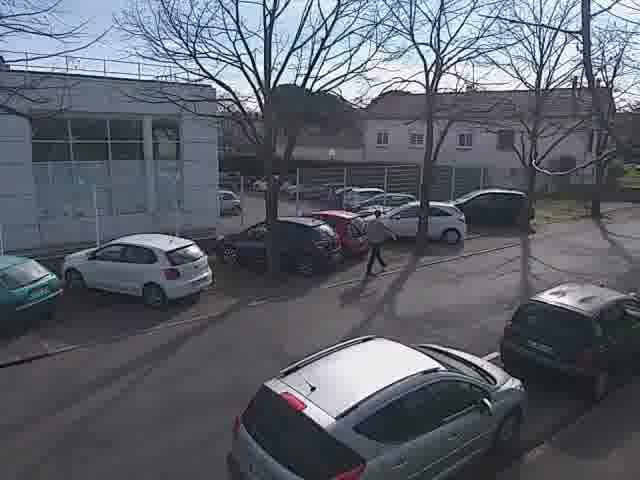persona: (361, 196, 396, 276)
